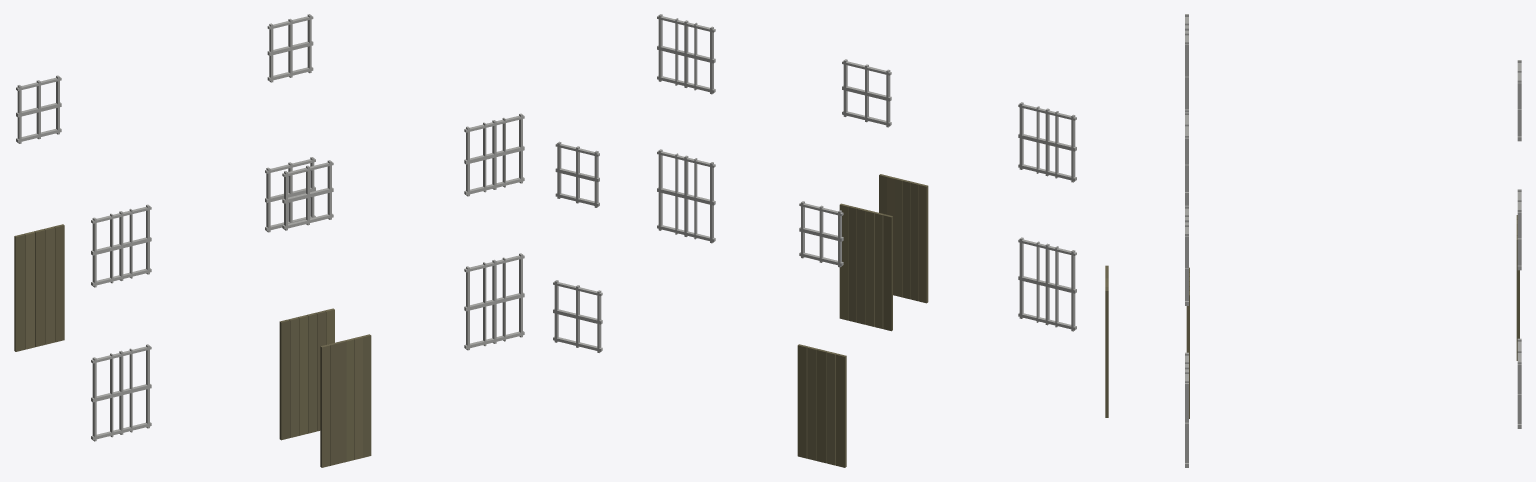
The model's file is SM_Bld_220_Wood.glb.
3 renders of one model, left to right at view 1: azimuth 30°, elevation 25°; view 2: azimuth 150°, elevation 25°; view 3: azimuth 270°, elevation 25°, orthographic. The views are drawn at different scales.
Parts seen in each view (by area): view 1: SM_Bld_220_Wood; view 2: SM_Bld_220_Wood; view 3: SM_Bld_220_Wood.
Boxes of the visible parts, box(x1,y1,x2,y2) form: SM_Bld_220_Wood: box(14, 14, 524, 467); SM_Bld_220_Wood: box(553, 14, 1076, 467); SM_Bld_220_Wood: box(1105, 14, 1521, 467).
Bounding box in the file's own units: 7.87 × 4.66 × 6.24.
